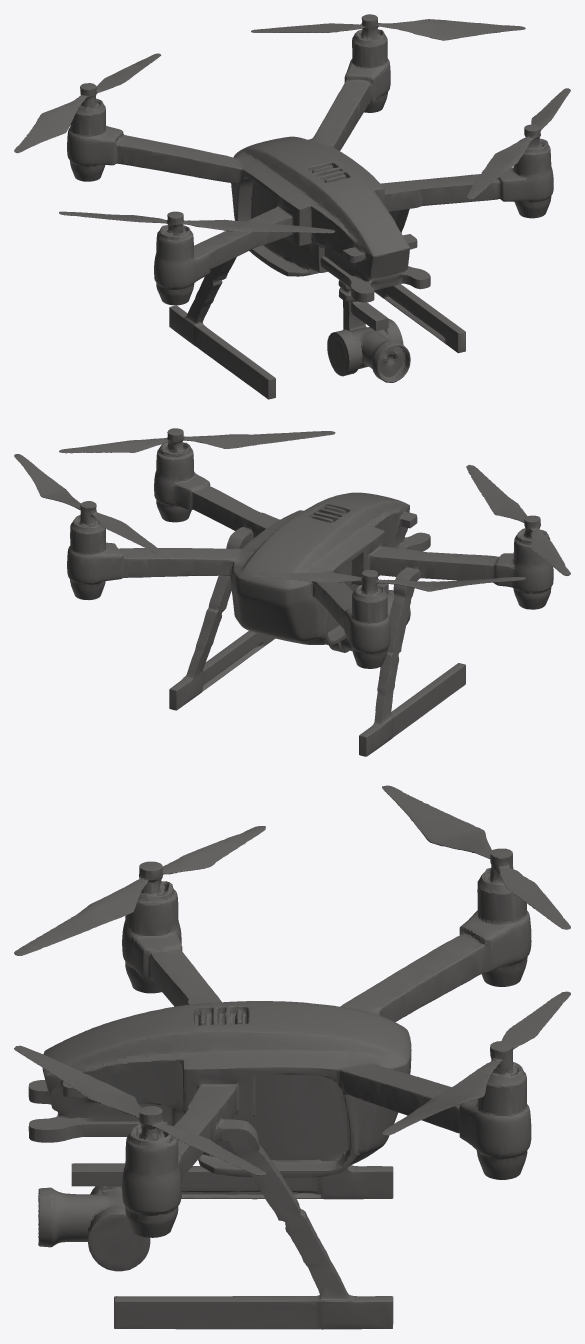
Rendered from aerial-drone.glb.
The picture shows the model from 3 angles, top to bottom: view 1: azimuth 30°, elevation 25°; view 2: azimuth 150°, elevation 25°; view 3: azimuth 270°, elevation 25°; orthographic projection. The views are drawn at different scales.
Visible parts, largest first — view 1: model; view 2: model; view 3: model.
Boxes of the visible parts, x1,y1,x2,y2 form: model: (14,14,570,399); model: (14,428,570,756); model: (14,785,570,1329).
Bounding box in the file's own units: 1.9 × 0.7928 × 1.28.
Materials: 1 (1 with a texture image).
